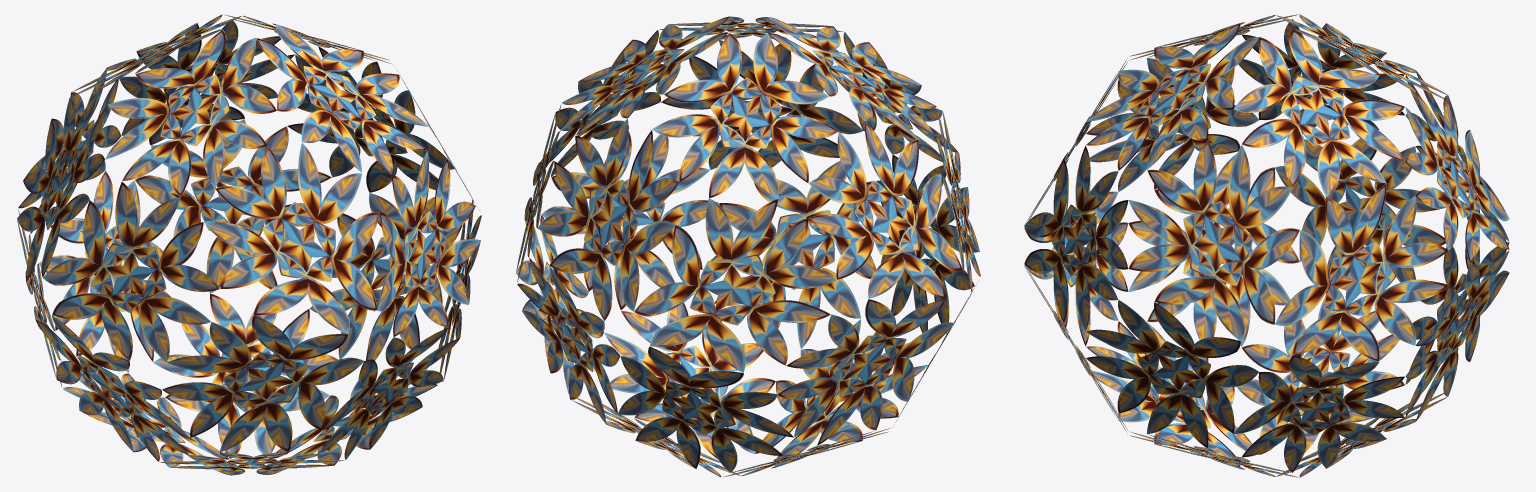
File: PentagonalIcositetrahedron1.obj
3 views of the same model, side by side, from view 1: azimuth 30°, elevation 25°; view 2: azimuth 150°, elevation 25°; view 3: azimuth 270°, elevation 25° (orthographic).
Size of the model in its own units: 2.72 by 2.72 by 2.72.
1 material, 1 textured.
